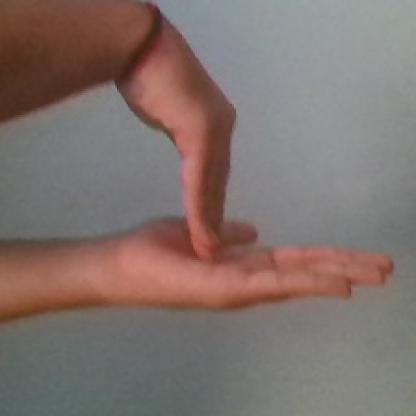Z: (135, 0, 394, 320)
